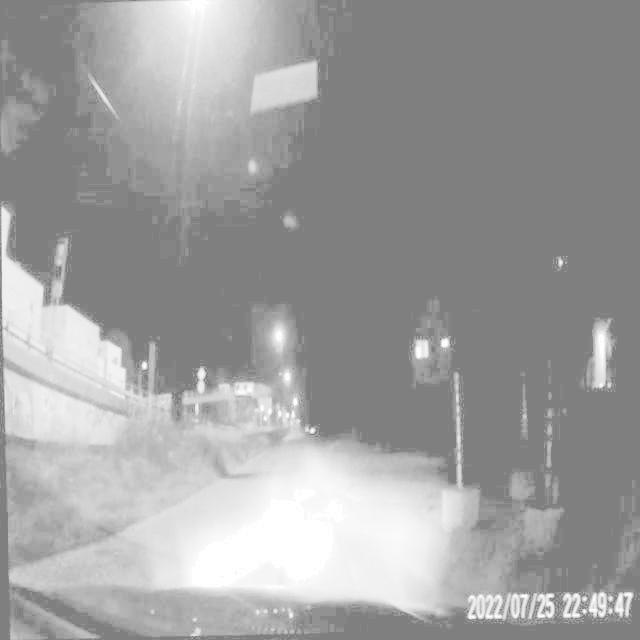Pothole: (337, 482, 362, 512), (286, 485, 316, 502)
